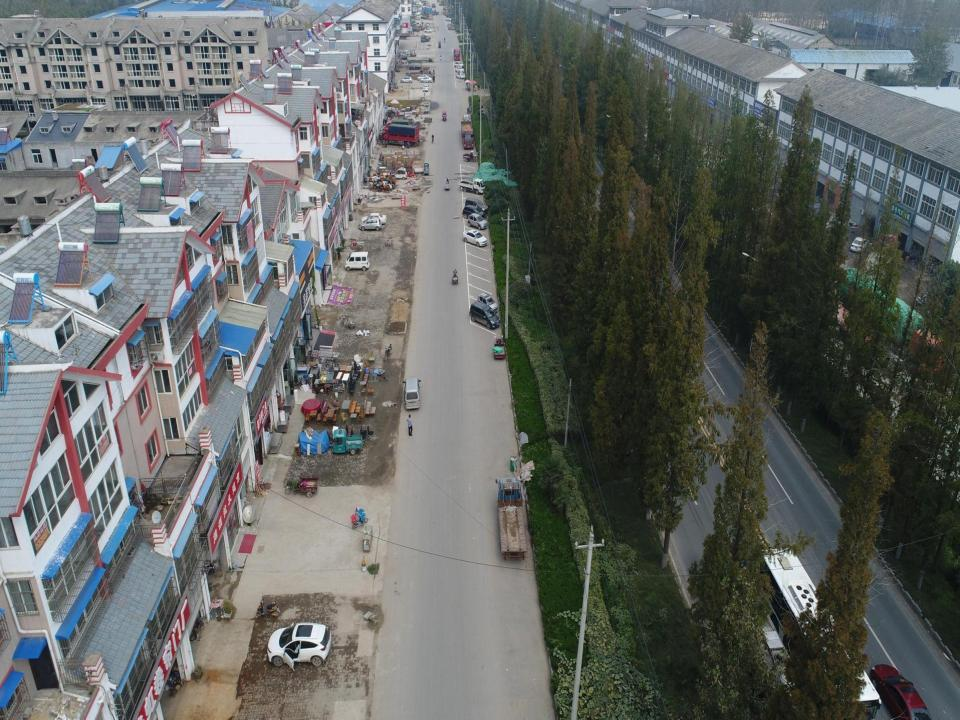bus: (750, 540, 882, 719)
car: (868, 660, 933, 719), (264, 620, 331, 672), (467, 300, 501, 329), (460, 230, 488, 248), (464, 196, 488, 215), (461, 203, 486, 221), (362, 211, 388, 228), (477, 292, 498, 312), (467, 212, 488, 231), (359, 217, 382, 232), (400, 76, 413, 84), (417, 73, 429, 80), (462, 113, 470, 123), (456, 72, 466, 80), (421, 77, 433, 83), (455, 66, 464, 74), (454, 61, 464, 68), (423, 84, 429, 92), (447, 22, 454, 28), (424, 28, 432, 33), (444, 16, 452, 21)
truck: (494, 475, 528, 563), (381, 124, 420, 147), (456, 178, 486, 194), (460, 119, 475, 149), (384, 119, 410, 133), (388, 25, 410, 41), (453, 47, 461, 61), (420, 33, 432, 42), (398, 50, 410, 56)
van: (401, 376, 422, 410), (343, 251, 372, 273)
